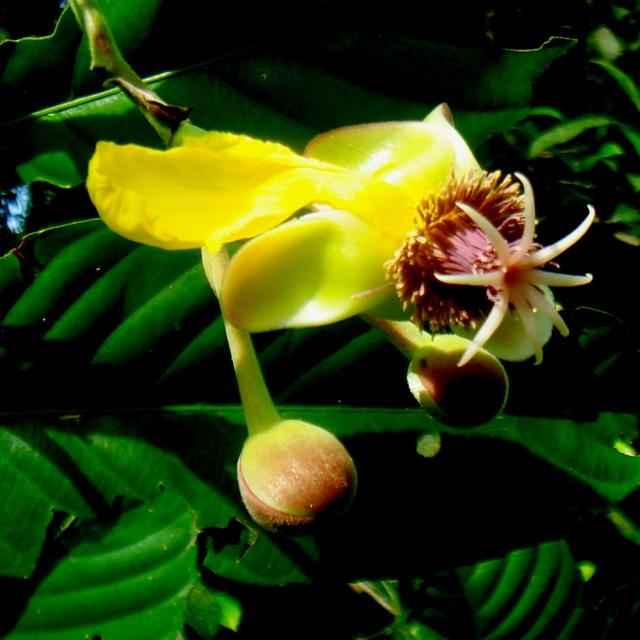Simpoh-Lak: (59, 93, 603, 539)
